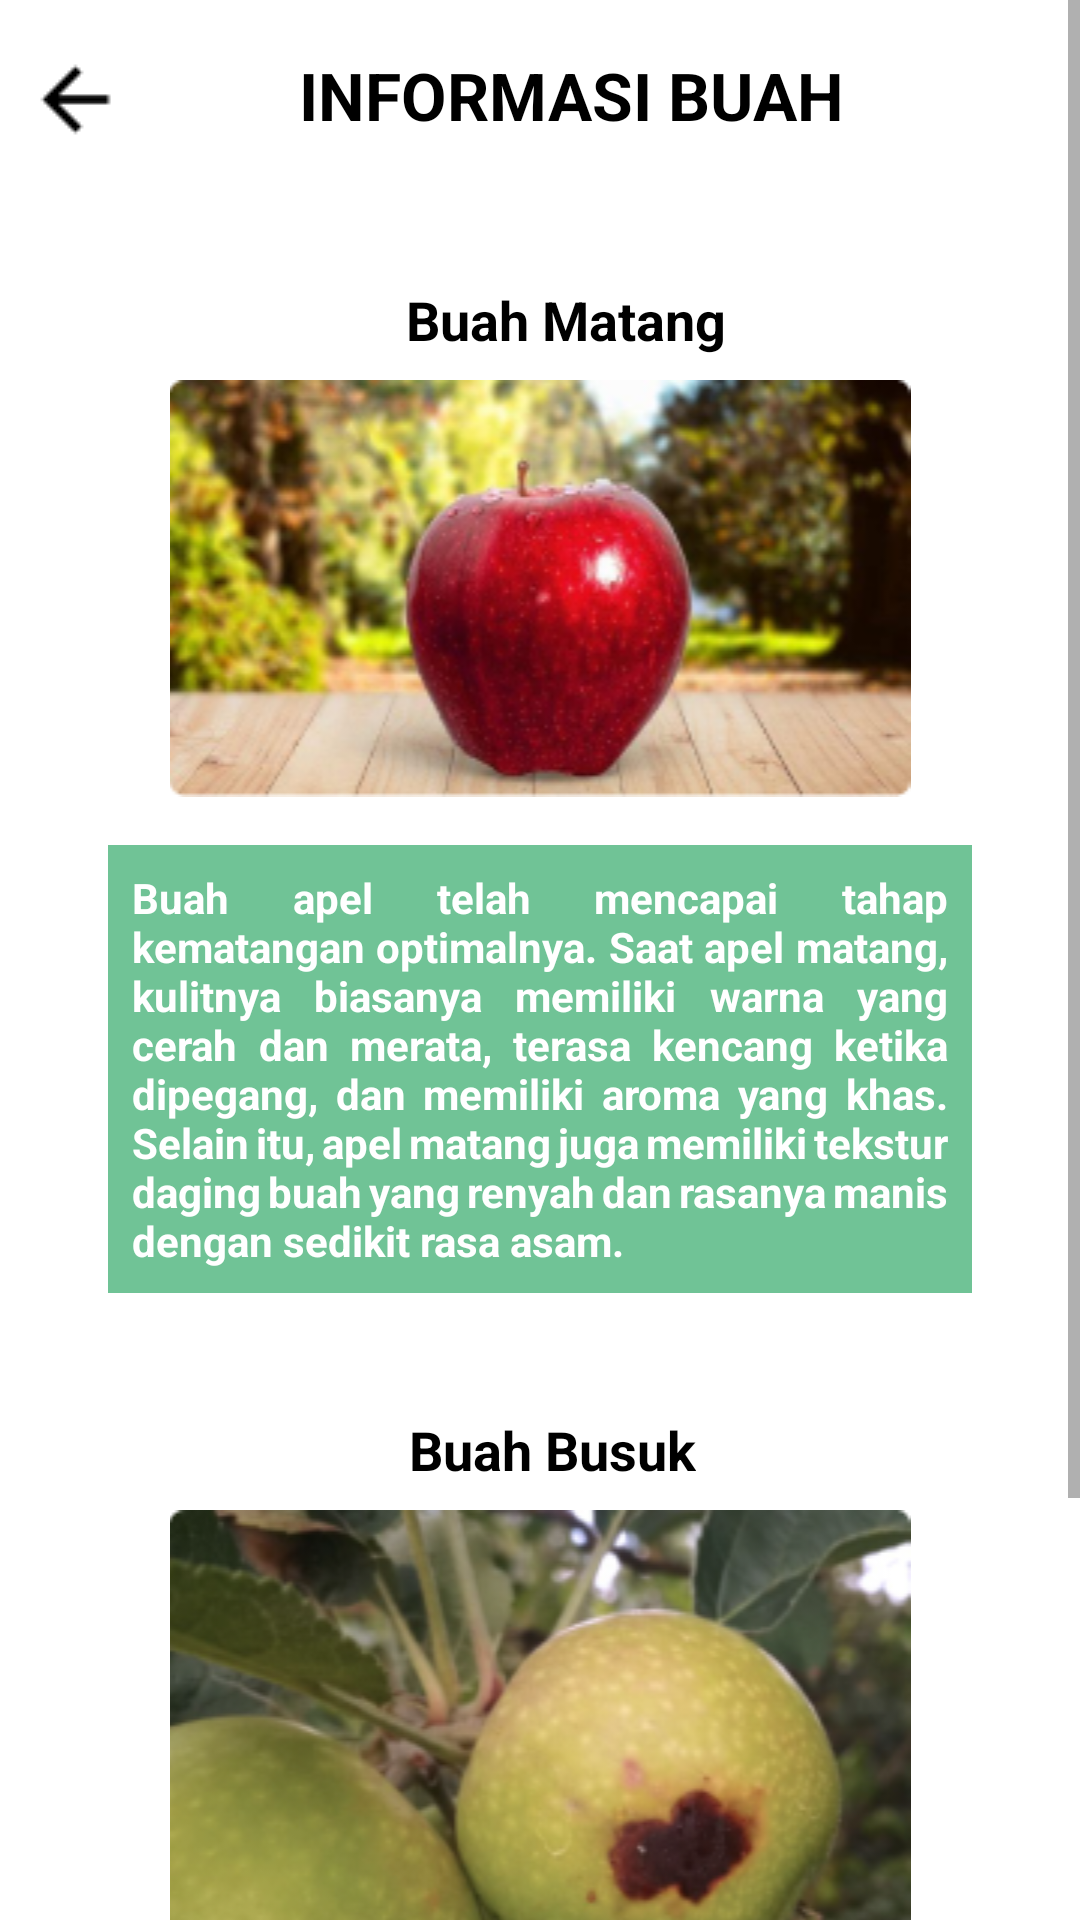

Where icons sit on this 1080×1920 app screen, as (x1, y1, x2, y2):
arrow back: (41, 65, 111, 134)
